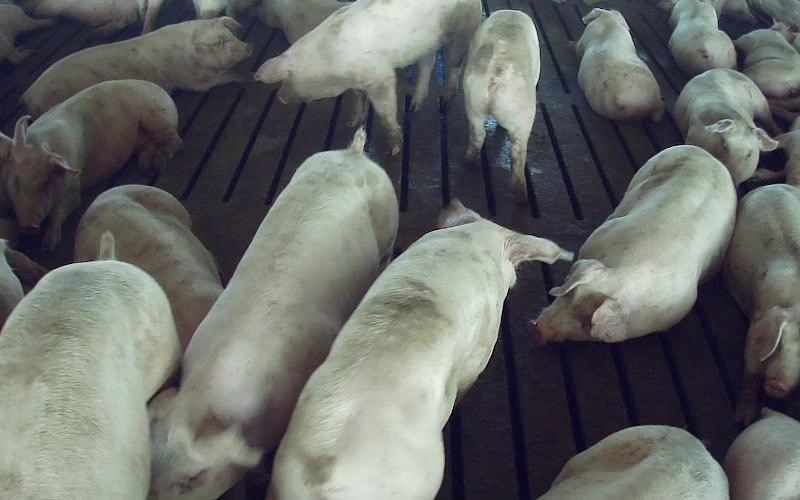pig: (152, 129, 397, 499), (270, 200, 572, 499), (0, 233, 179, 499), (534, 145, 736, 342), (5, 80, 181, 249), (74, 185, 222, 349), (22, 17, 252, 117), (723, 184, 799, 423), (463, 10, 539, 202), (674, 68, 777, 186), (573, 8, 663, 120), (668, 0, 735, 75), (734, 22, 799, 98)
